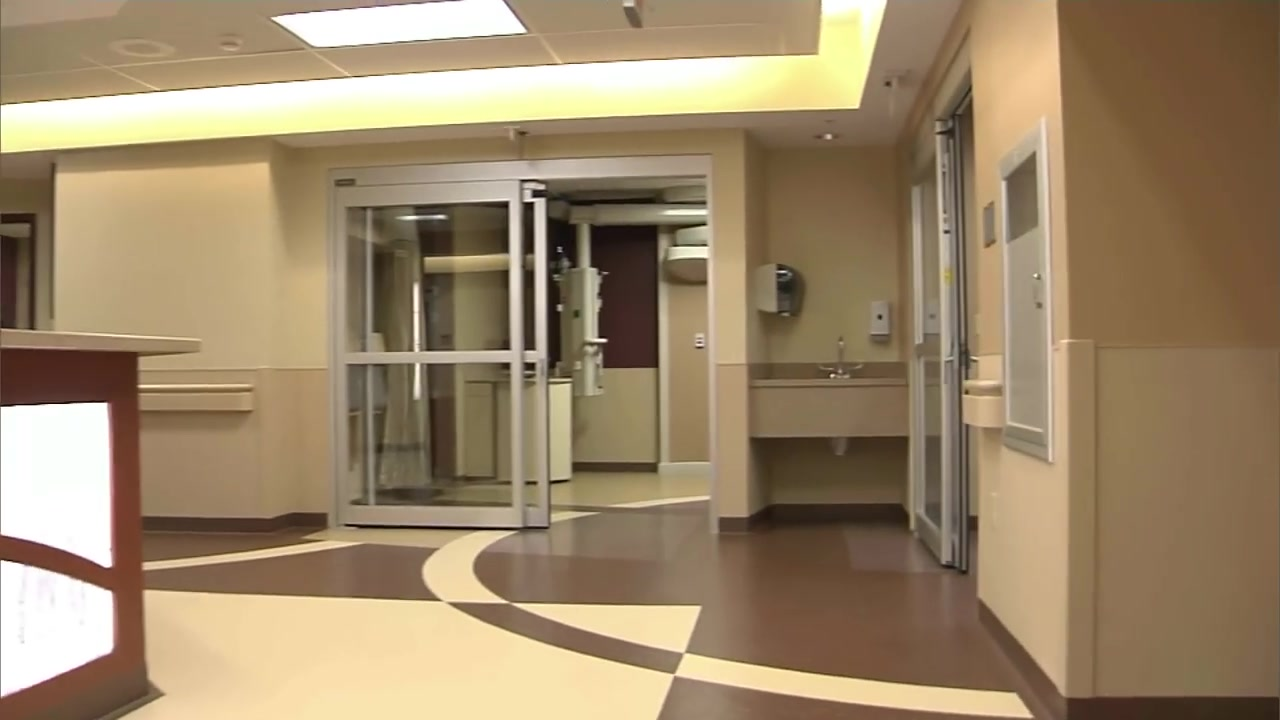counter: (1, 323, 200, 716), (744, 383, 906, 437)
countertop: (1, 328, 202, 357)
curtain: (376, 212, 437, 496)
dispenser: (754, 262, 799, 316), (869, 301, 891, 343)
door_handle: (943, 356, 954, 384), (538, 357, 546, 377)
faucet: (819, 335, 863, 377)
hallway_assist_bar: (138, 384, 254, 412), (962, 379, 1005, 427)
handle: (1032, 272, 1045, 309)
light_switch: (694, 332, 705, 349)
